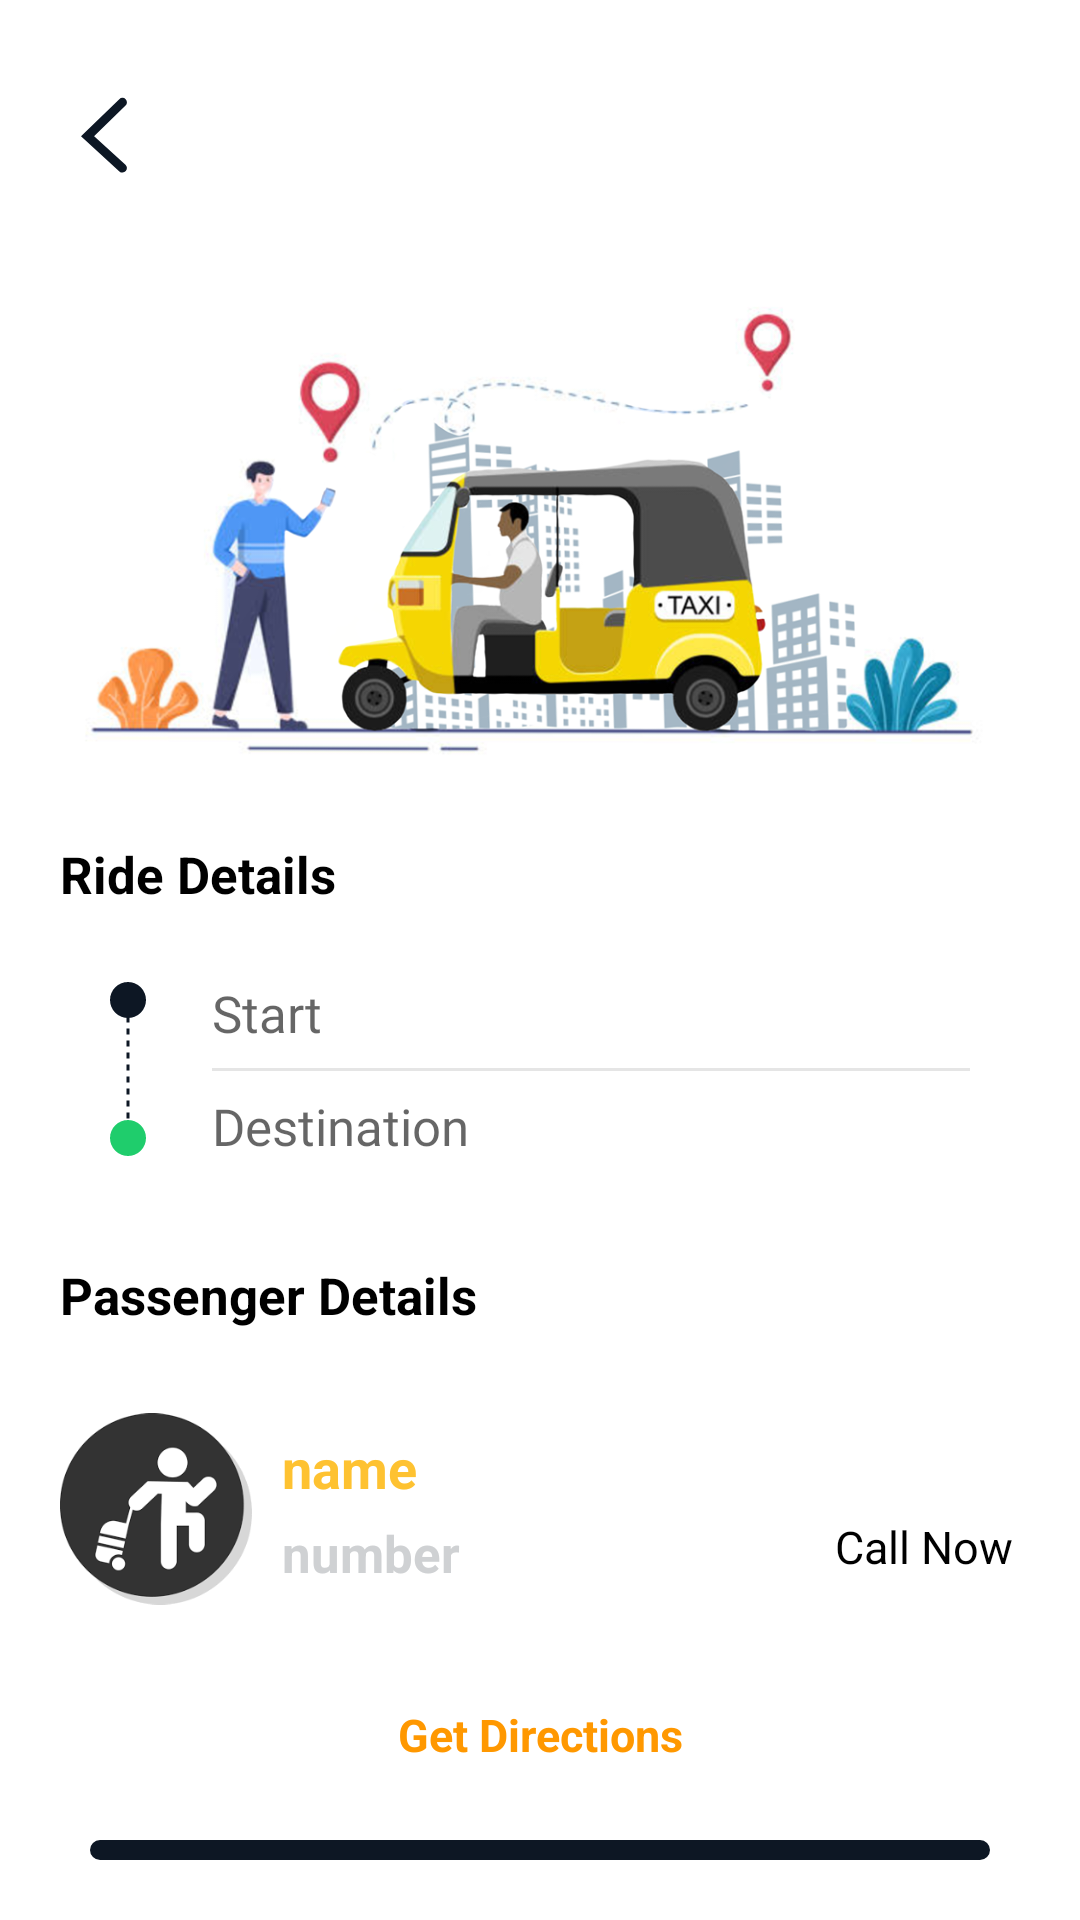

Where icons sit on this 1080px×1920px app screen, as [x1, y1, x2, y2]:
back arrow: [81, 97, 127, 173]
